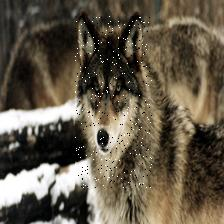WOLF: (76, 17, 153, 189)
